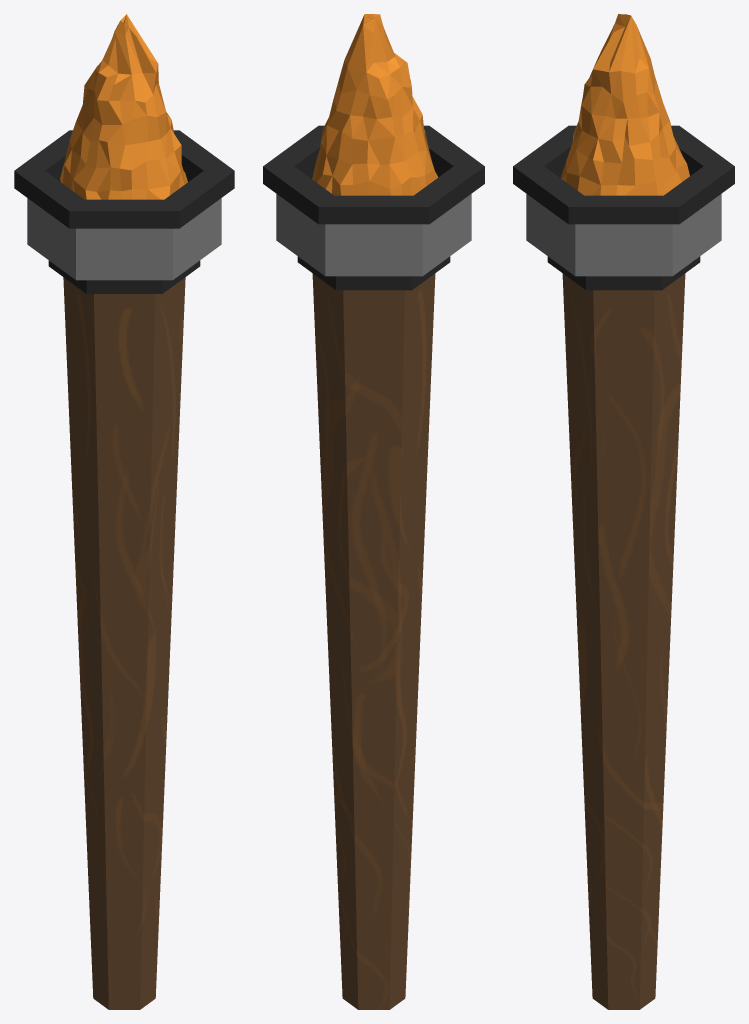
The model's file is torchNormalss.fbx.
3 renders of one model, left to right at view 1: azimuth 30°, elevation 25°; view 2: azimuth 150°, elevation 25°; view 3: azimuth 270°, elevation 25°, orthographic.
Visible parts, largest first — view 1: Cylinder, Sphere; view 2: Cylinder, Sphere; view 3: Cylinder, Sphere.
Boxes of the visible parts, left/top/right/bottom form: Cylinder: left=14, top=130, right=234, bottom=1009; Sphere: left=60, top=14, right=187, bottom=199; Cylinder: left=263, top=125, right=484, bottom=1009; Sphere: left=312, top=14, right=438, bottom=195; Cylinder: left=513, top=125, right=734, bottom=1009; Sphere: left=560, top=14, right=689, bottom=195.
Size of the model in its own units: 33.99 by 192 by 39.24.
